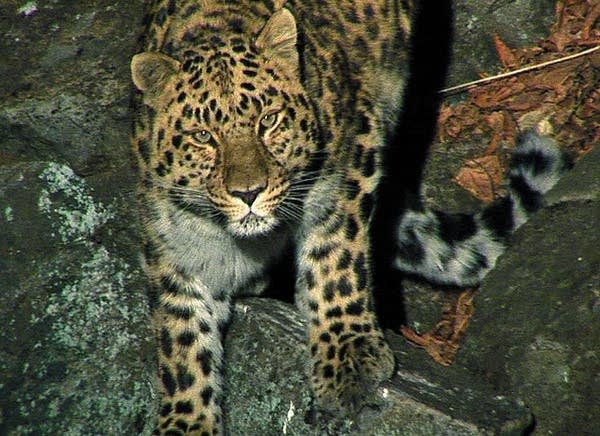amur_leopard: (112, 4, 393, 394)
